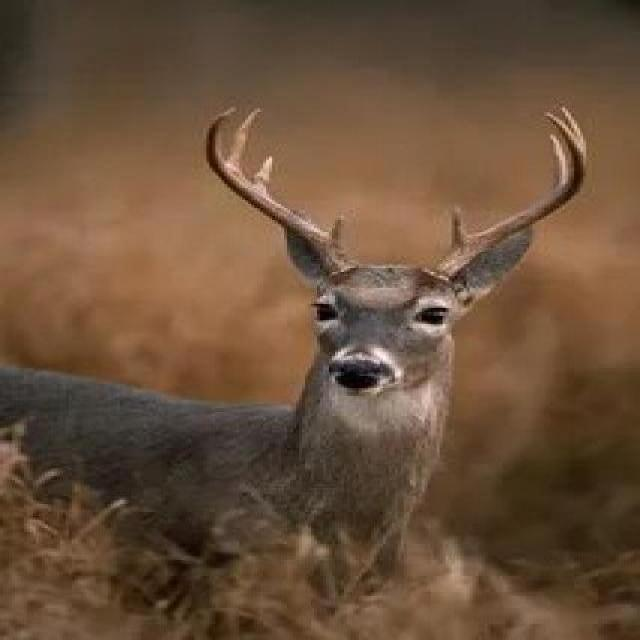deer: (127, 154, 640, 546)
